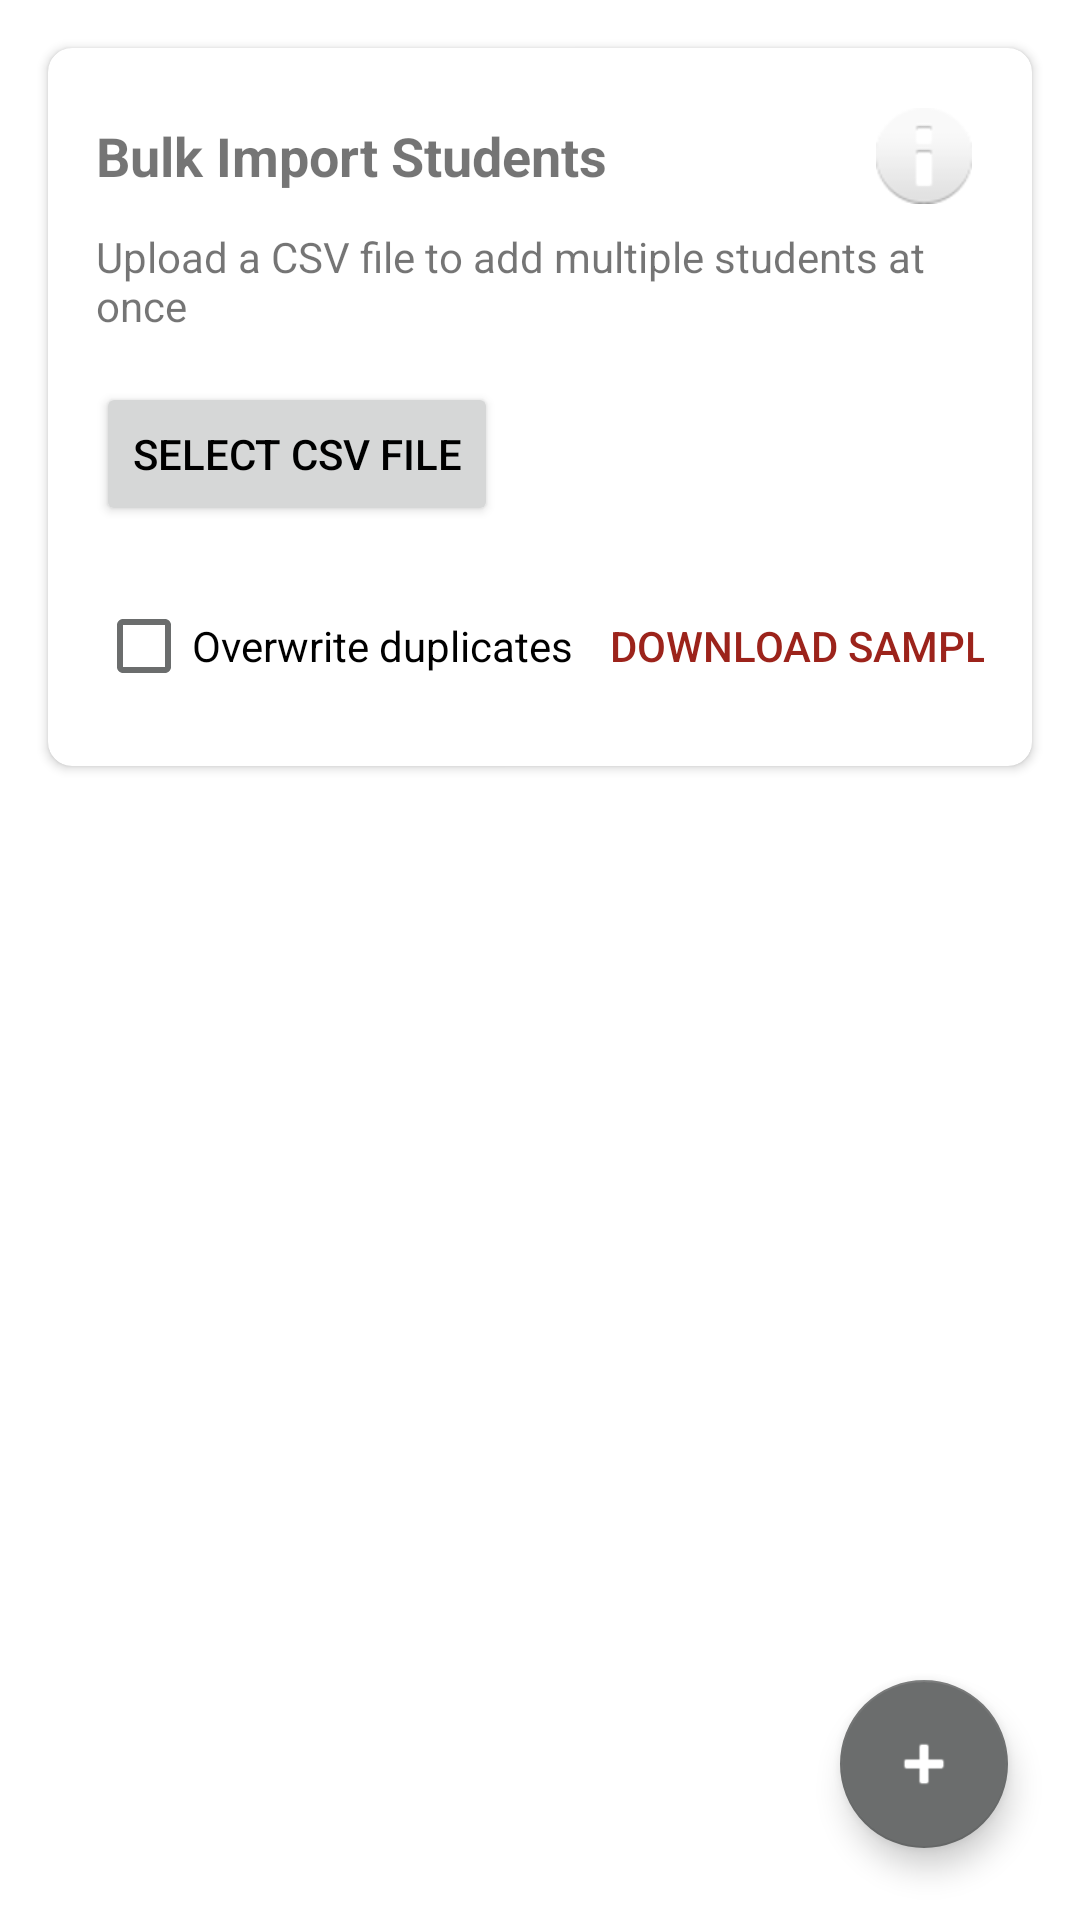

Named icons in this screenshot (1080px×1920px) and their centers, (x,y):
Add Student: (924,1764)
CSV Format Information: (924,165)
